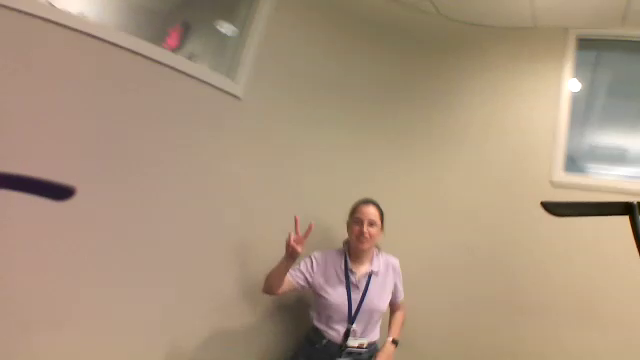peace: (279, 207, 315, 262)
